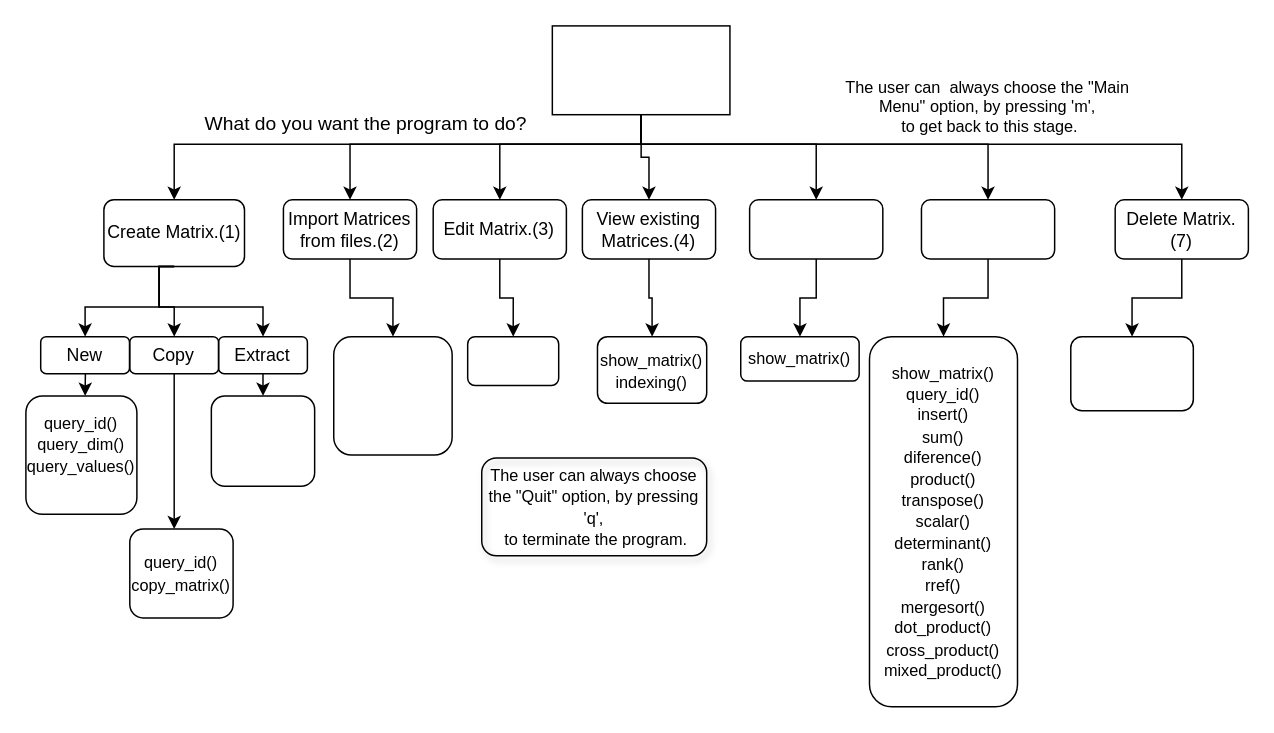
Some shapes in this 1274 by 733 pixel diagram are drawn without their labels. Here are the shapes that lost their labels. From the top down, the centre of each, then its label:
At [640,69]: "Main".
At [815,228]: "Export Matrices to file.(5)".
At [987,228]: "Operations.(6)".
At [512,360]: "edit()".
At [1131,373]: "show_matrix() delete_matrix()".
At [392,395]: "query_dim() init_matrix() query_values() insert()".
At [262,440]: "query_id() init_matrix() insert()".
